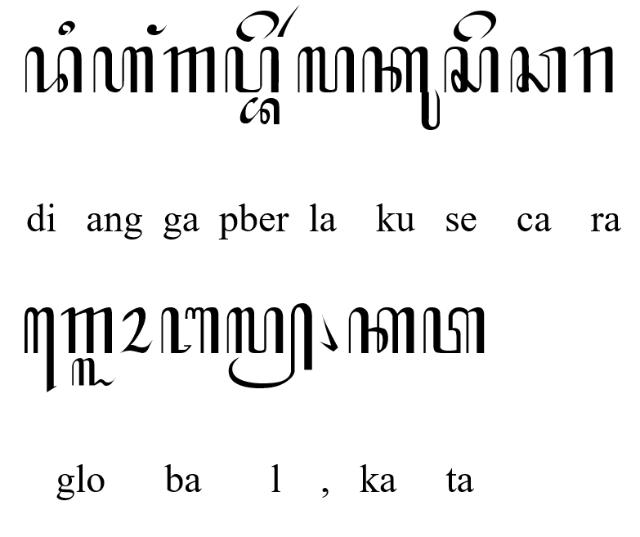_b: (238, 96, 280, 126)
_l: (226, 302, 314, 390), (70, 357, 116, 387)
_r1: (278, 5, 300, 38)
b: (160, 305, 220, 355)
c: (509, 45, 566, 93)
d: (24, 46, 84, 94)
e: (236, 9, 280, 41), (452, 10, 496, 42)
e1: (23, 306, 57, 393)
g: (60, 306, 114, 355), (164, 46, 216, 94)
h: (92, 45, 154, 95)
i: (58, 19, 76, 35)
k: (348, 306, 416, 354)
kom: (319, 313, 339, 353)
ku: (361, 46, 441, 130)
l: (297, 46, 355, 94)
ng: (146, 23, 166, 37)
o: (120, 306, 152, 354)
p: (225, 45, 279, 93)
r: (572, 44, 614, 94)
s: (443, 45, 499, 93)
t: (423, 306, 485, 354)
